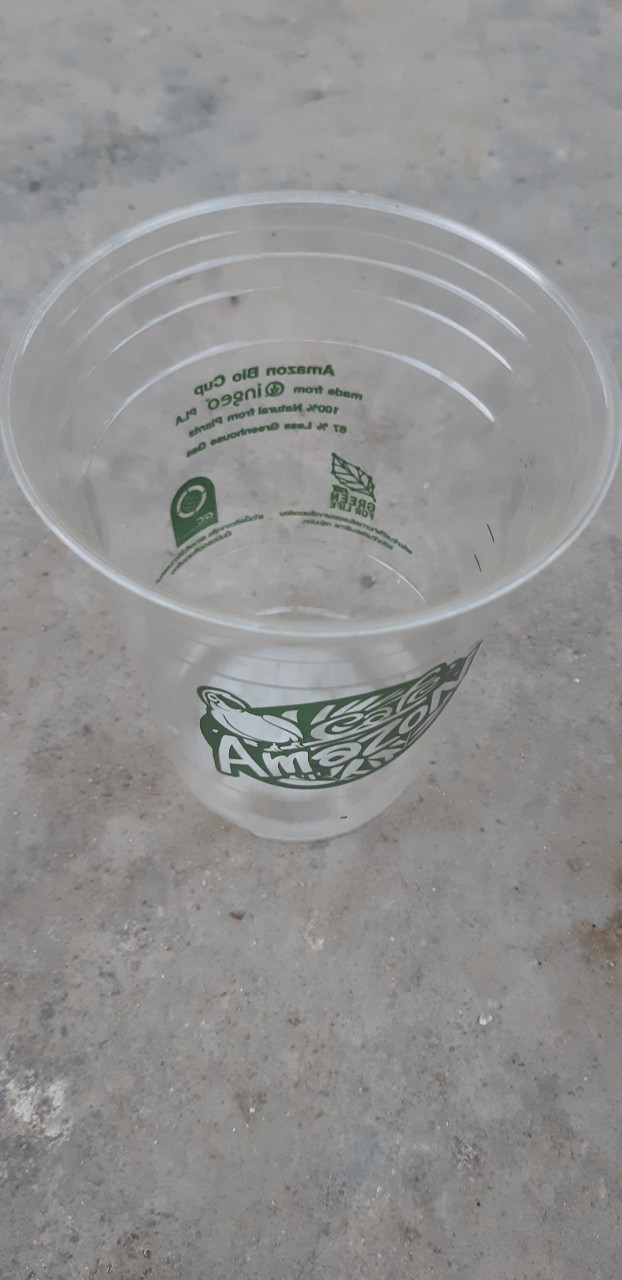PlasticCup: (6, 194, 622, 847)
